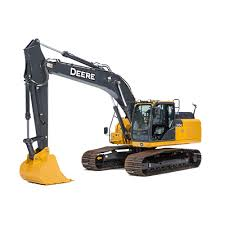excavator: (17, 35, 203, 187)
